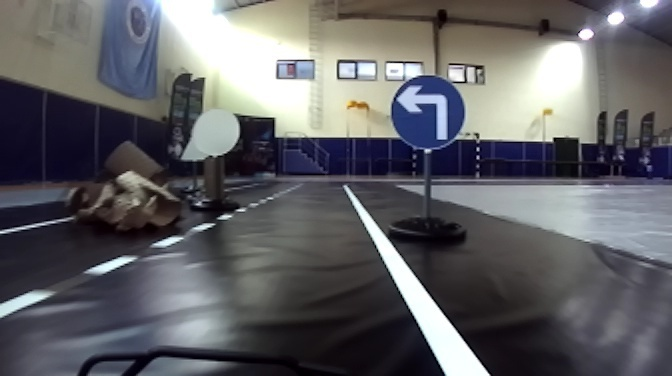sola_donus: (390, 77, 461, 143)
